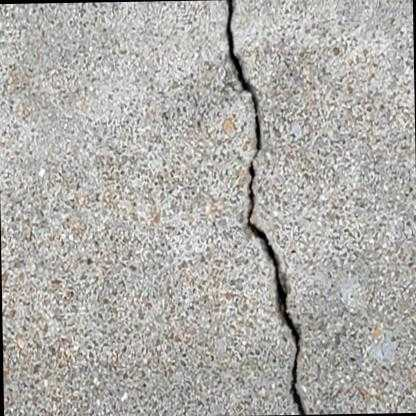crack: (223, 3, 309, 414)
